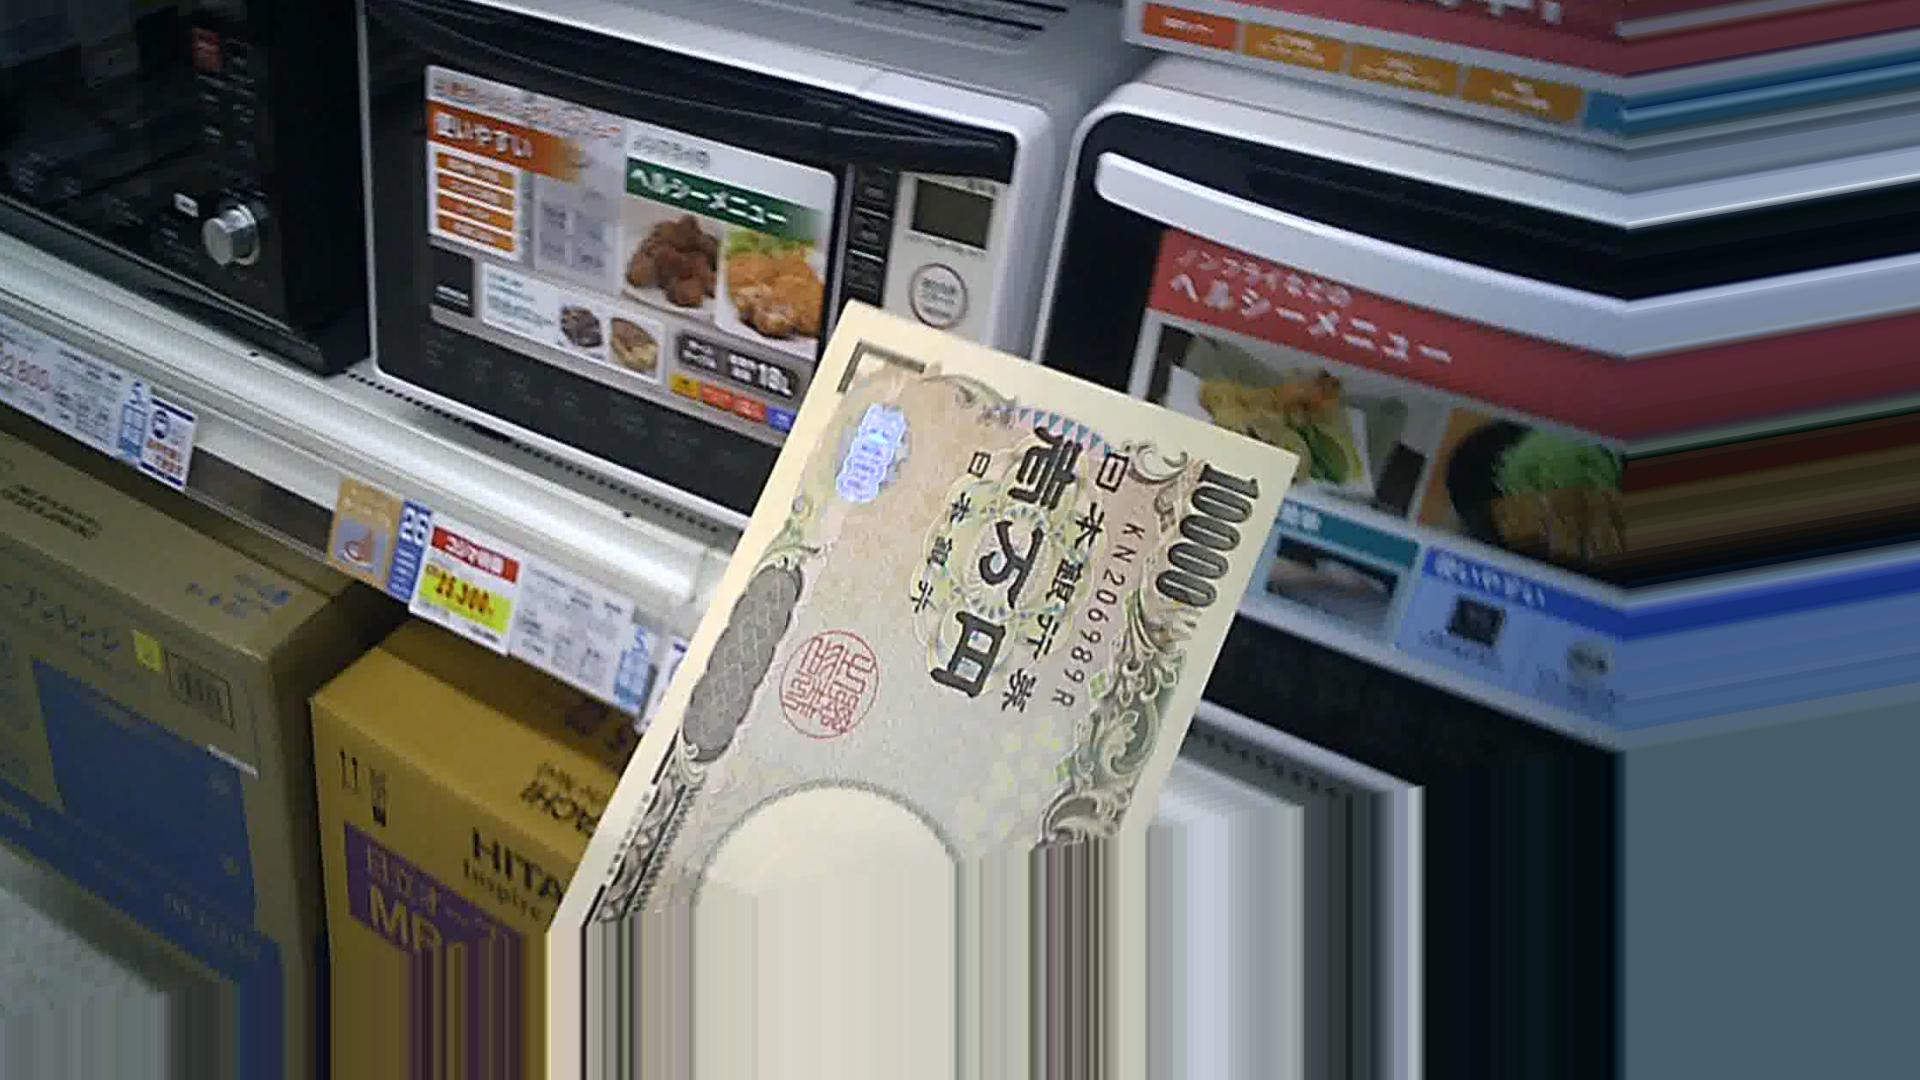10,000 Yen: (483, 289, 1287, 957)
